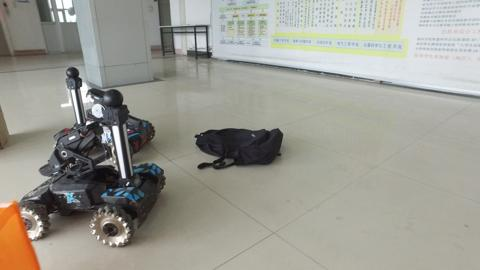bag: (195, 123, 287, 170)
chariot: (16, 91, 170, 240)
